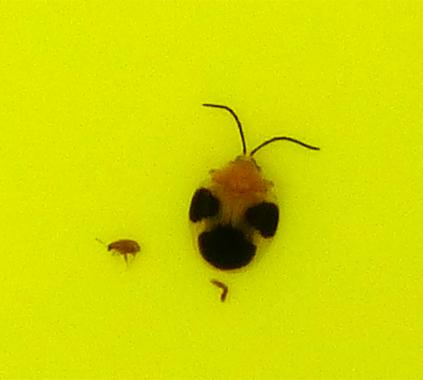Coleoptera: (179, 100, 323, 280), (100, 234, 146, 259)
